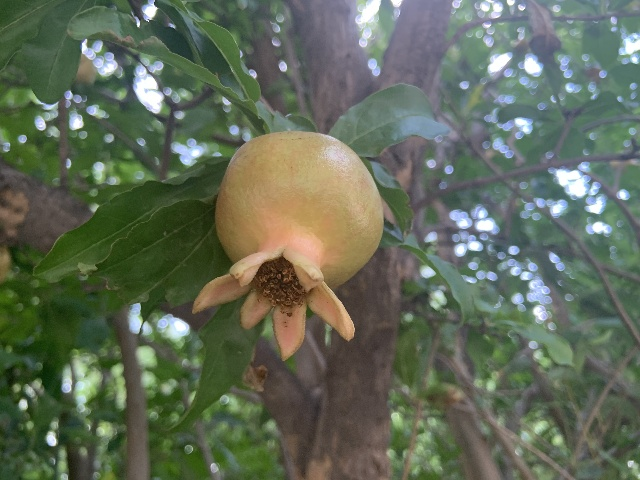mid-growth: (191, 130, 384, 361)
